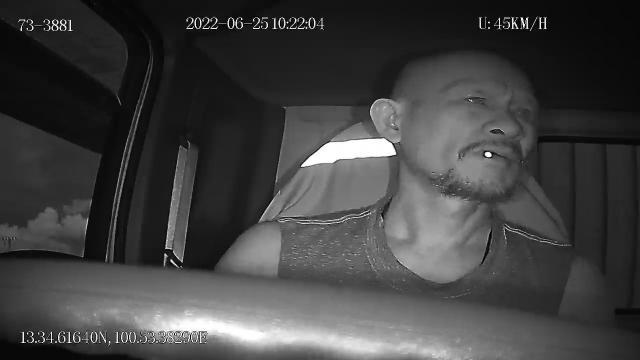SafeDriving: (450, 86, 496, 114)
Smoking: (483, 151, 492, 159)
